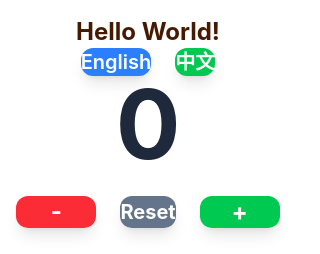
it: App Component › switches to Chinese when clicking Chinese button
Click the button "中文" at (195, 62), box [175, 48, 215, 76]
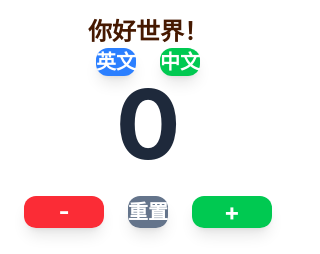
Expected: the heading "你好世界！" is shown, [88, 16, 208, 48]
